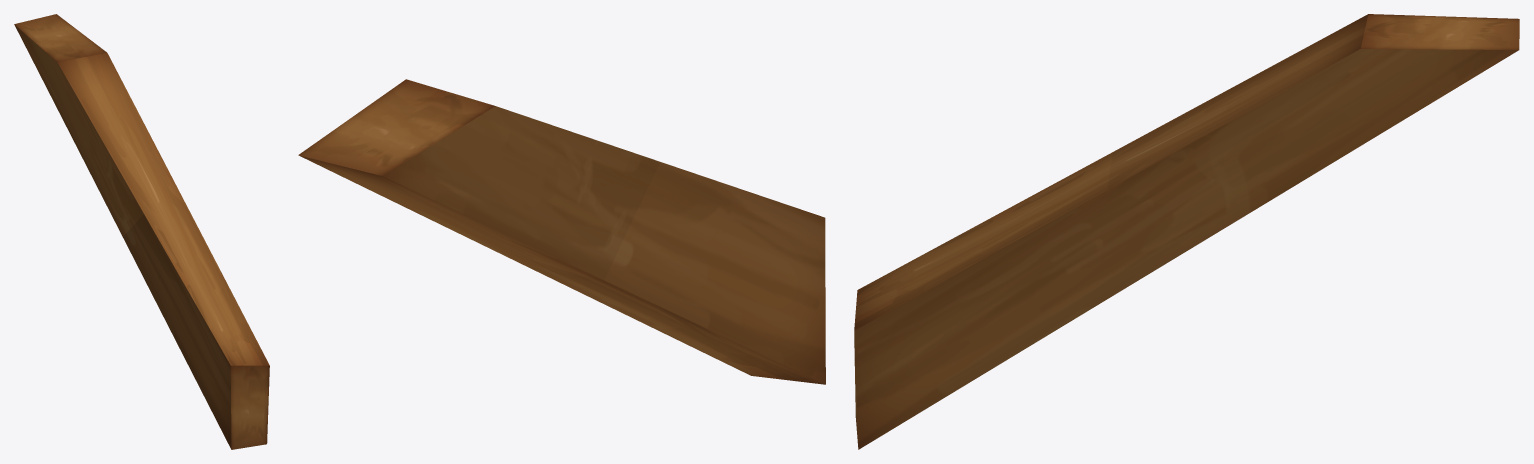
File: WallSupport.001.fbx
3 renders of one model, left to right at view 1: azimuth 30°, elevation 25°; view 2: azimuth 150°, elevation 25°; view 3: azimuth 270°, elevation 25°, orthographic. The views are drawn at different scales.
Parts seen in each view (by area): view 1: WallSupport.001; view 2: WallSupport.001; view 3: WallSupport.001.
Boxes of the visible parts, left/top/right/bottom form: WallSupport.001: left=14, top=14, right=269, bottom=449; WallSupport.001: left=298, top=79, right=825, bottom=384; WallSupport.001: left=854, top=14, right=1519, bottom=449.
Size of the model in its own units: 16.91 by 88.63 by 132.
